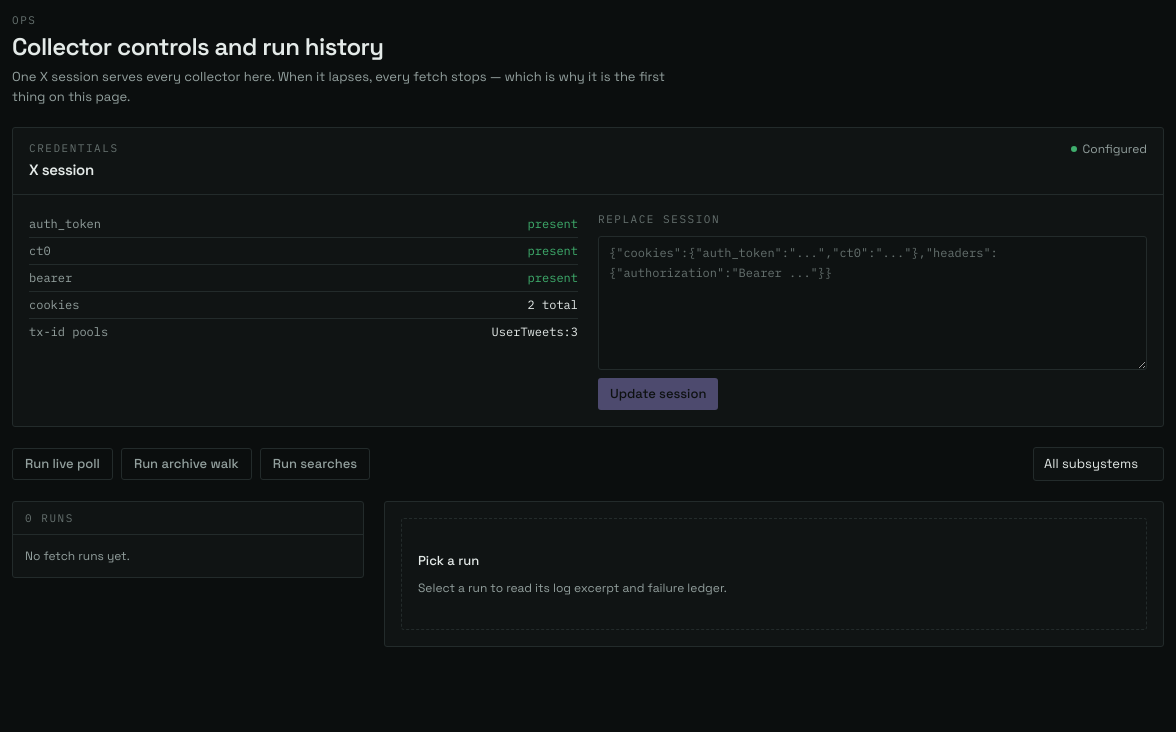
Test: cycle controls › confirms the queued cycle
Step 1. Click the button "Run live poll" → (62, 464), box [12,448,113,480]
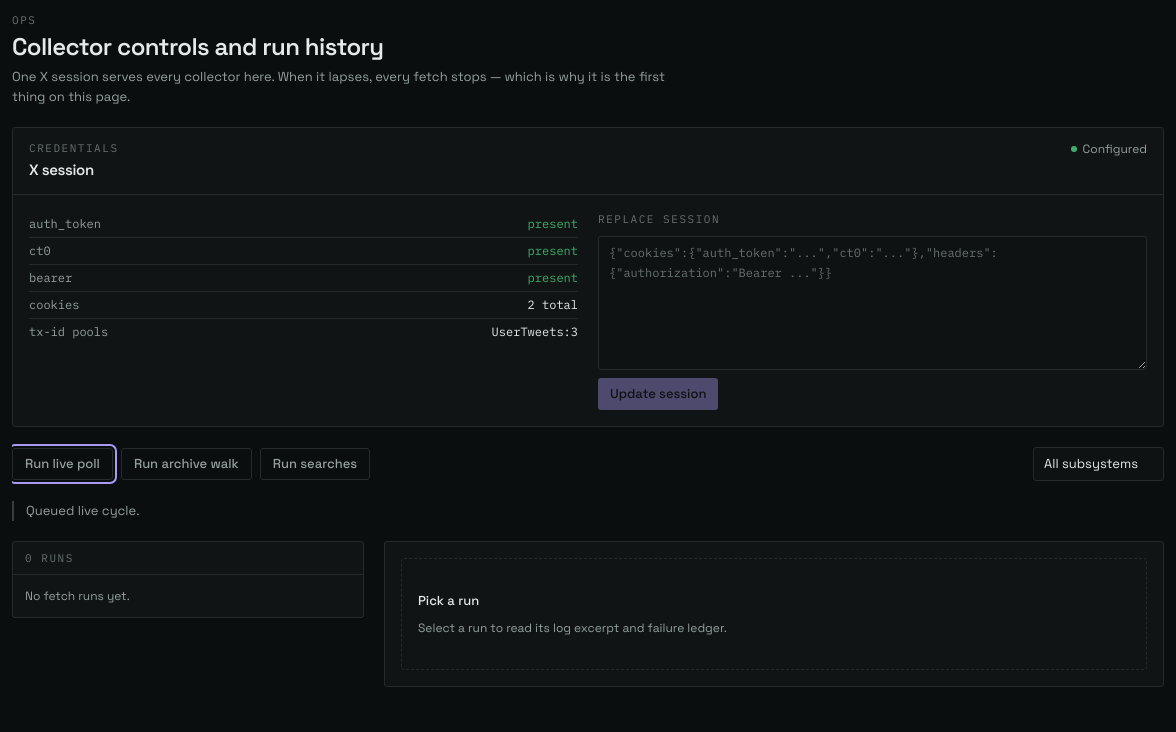
Result: the text "Queued live cycle." is shown at [12,500,1164,520]
